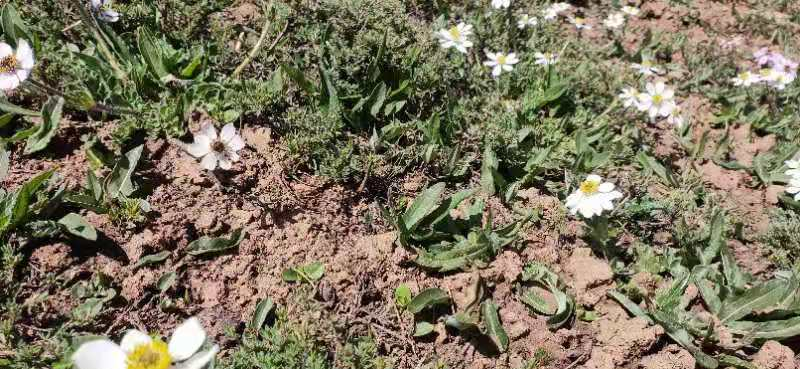cpf: (355, 160, 377, 195)
